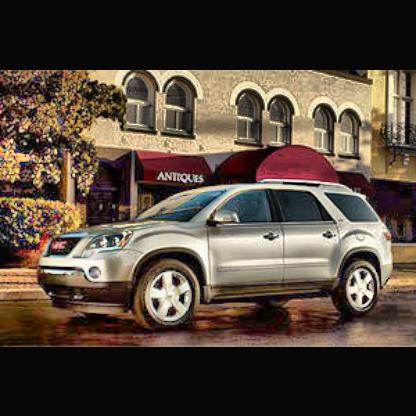GMC Acadia SUV 2012: (36, 180, 399, 331)
